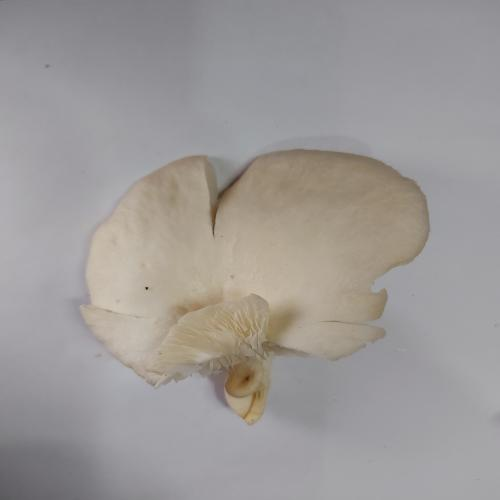Oyster Mushroom: (79, 147, 431, 425)
